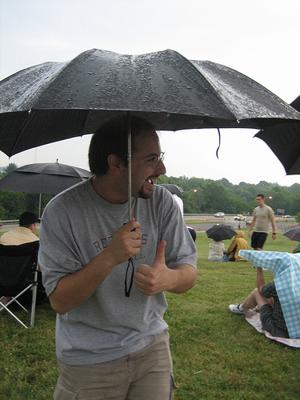person: (39, 117, 198, 400)
